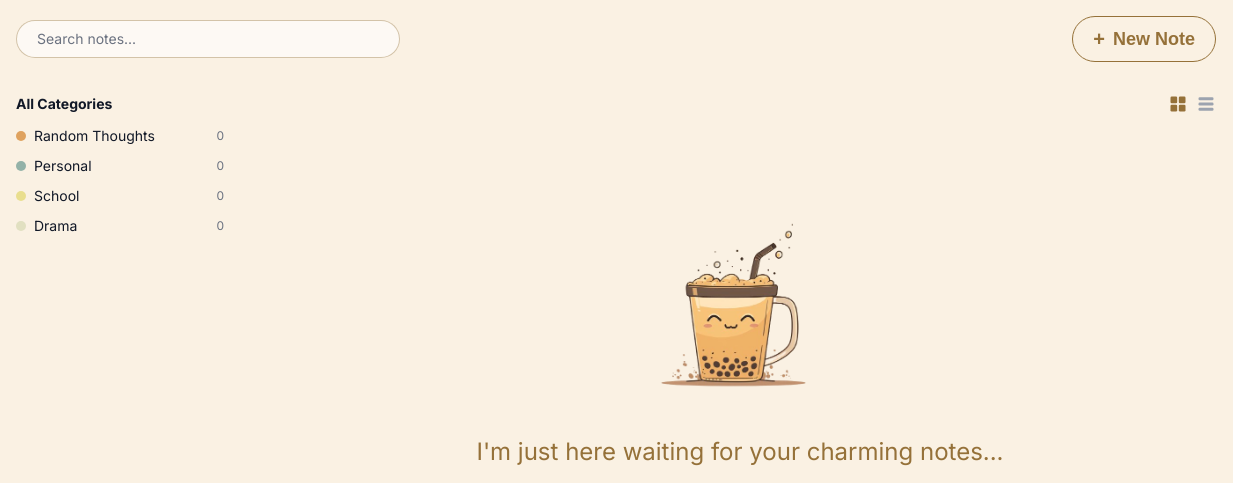
Scenario: NotesDashboard › debounces search input and fetches matching notes
Type "grocery" into the search field with test id "notes-search-input" at coordinates (208, 39), box [16,20,400,58]
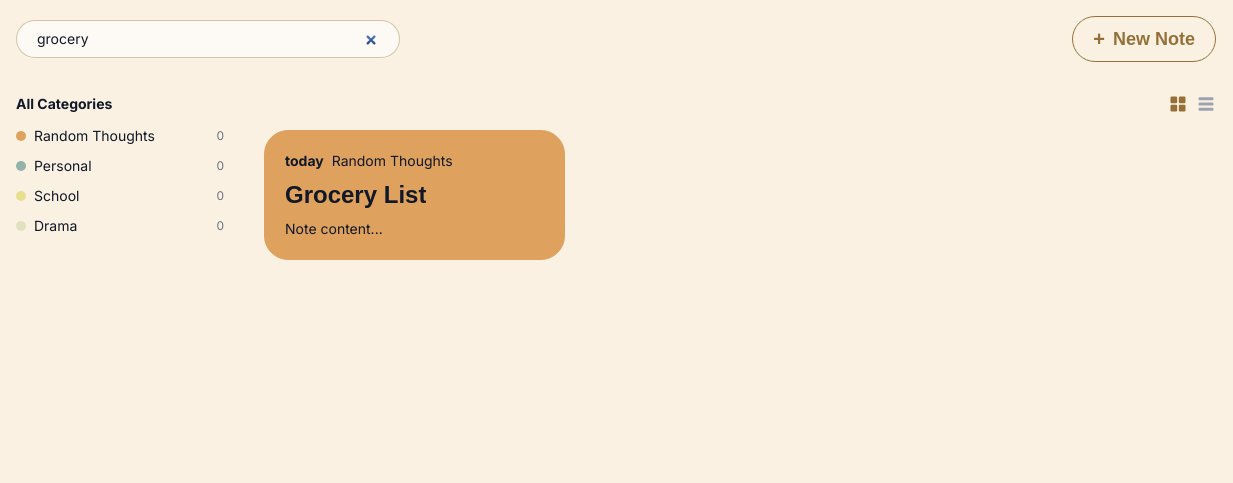
Now the heading "Grocery List" is shown, box [285,179,426,211]
